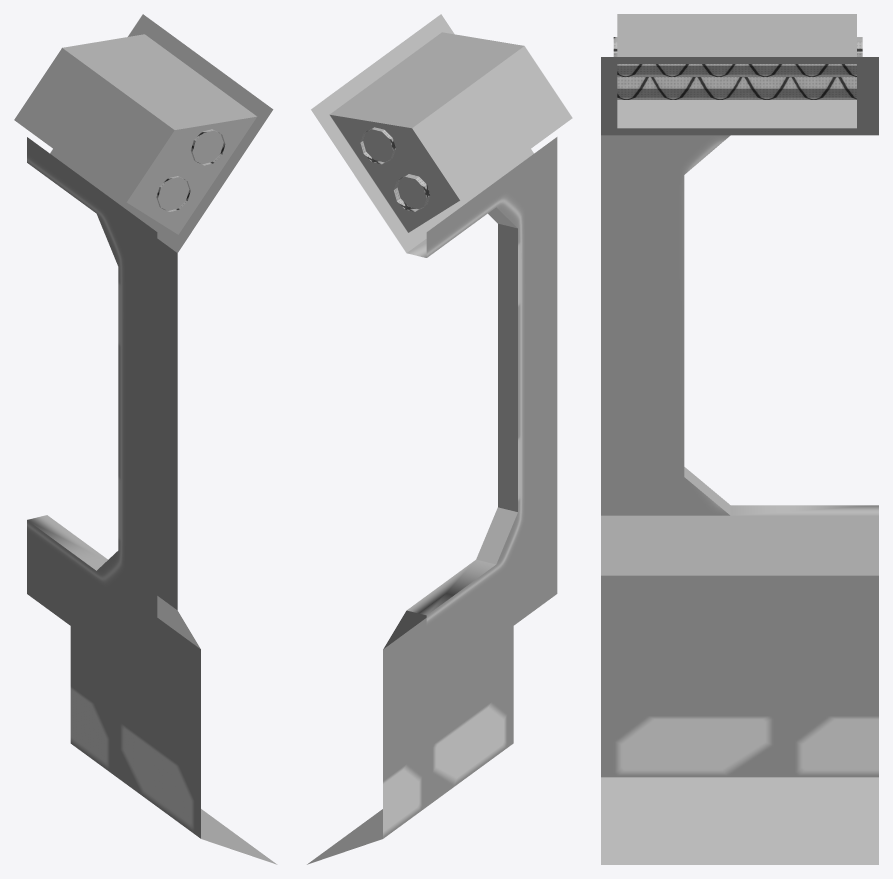
Rendered from PanelPipesHoleL.fbx.
The picture shows the model from 3 angles, left to right: view 1: azimuth 30°, elevation 25°; view 2: azimuth 150°, elevation 25°; view 3: azimuth 270°, elevation 25°; orthographic projection. The views are drawn at different scales.
Parts seen in each view (by area): view 1: PanelPipesHoleL; view 2: PanelPipesHoleL; view 3: PanelPipesHoleL.
Part boxes in pixels (bbox=[...]): PanelPipesHoleL: bbox=[14, 14, 277, 864]; PanelPipesHoleL: bbox=[307, 14, 572, 864]; PanelPipesHoleL: bbox=[601, 14, 878, 864].
Size of the model in its own units: 4.77 by 24 by 7.5.
